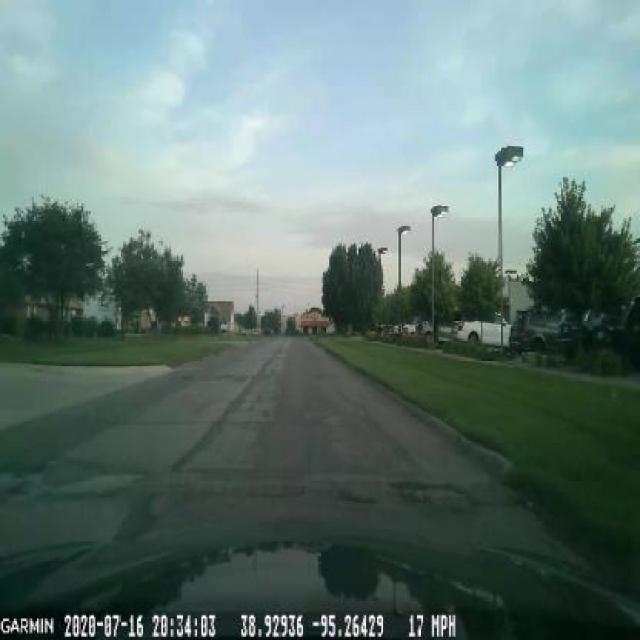Pothole: (386, 476, 485, 521)
